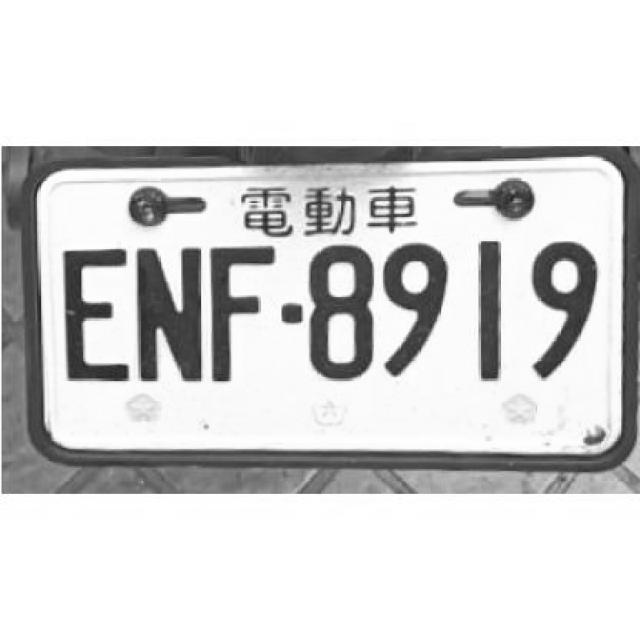-: (280, 300, 303, 325)
1: (475, 240, 503, 386)
8: (304, 241, 371, 378)
9: (526, 236, 596, 379), (377, 238, 448, 378)
E: (57, 244, 126, 378)
F: (206, 242, 272, 379)
N: (132, 242, 203, 381)
